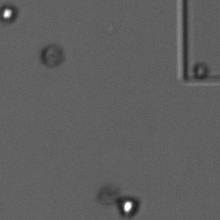Dead Cell: (36, 43, 68, 69), (191, 62, 209, 80)
Living Cell: (113, 194, 143, 216), (1, 4, 19, 25)
